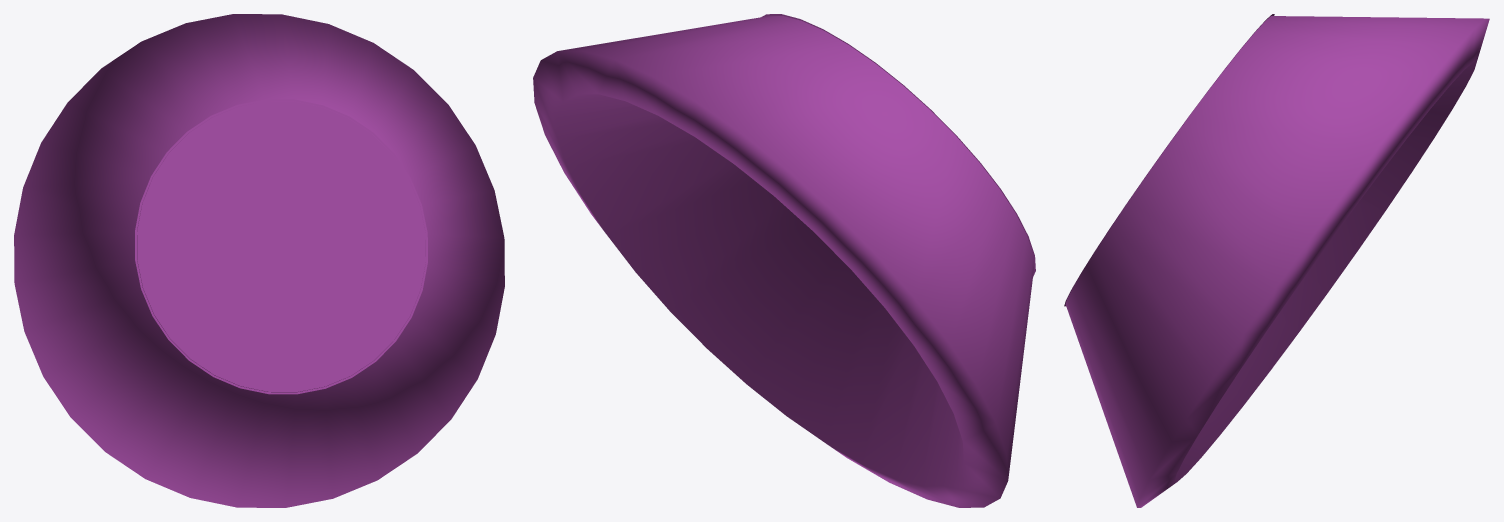
Rendered from repairpartHigh.obj.
The picture shows the model from 3 angles, left to right: view 1: azimuth 30°, elevation 25°; view 2: azimuth 150°, elevation 25°; view 3: azimuth 270°, elevation 25°; orthographic projection. The views are drawn at different scales.
Visible parts, largest first — view 1: 円柱; view 2: 円柱; view 3: 円柱.
Part boxes in pixels (x1,y1,x2,y2): 円柱: (14,14,504,507); 円柱: (533,14,1035,507); 円柱: (1064,14,1489,507).
Bounding box in the file's own units: 2.11 × 1.91 × 1.56.
